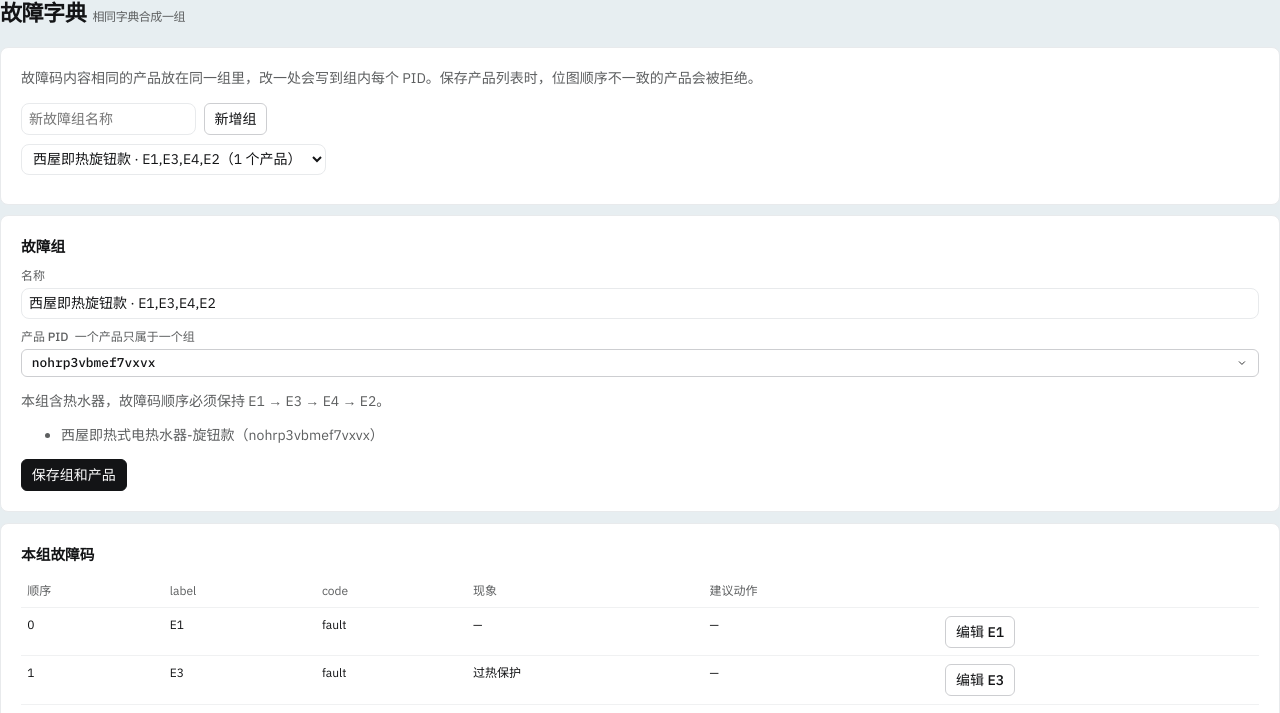
Test case: FaultCodeDictionaryPage › shows one shared code table for a group of products
Select "壁挂炉 · E0,E1（2 个产品）" in the dropdown named "故障组" at (174, 159), box [21,144,326,175]
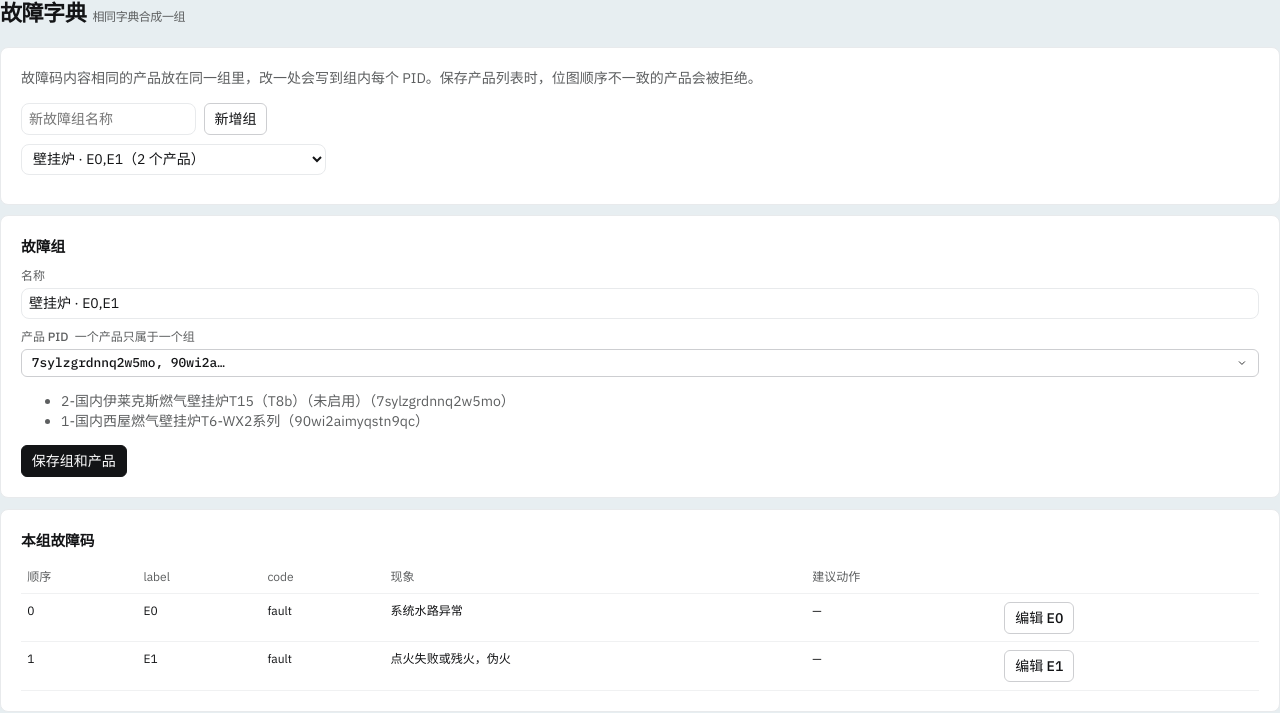
Expected: the number of cells "E0" is 1, [137,594,261,642]
